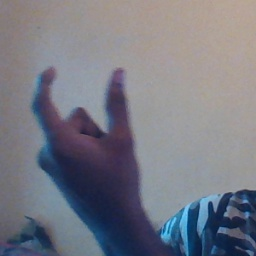U: (27, 60, 141, 211)
